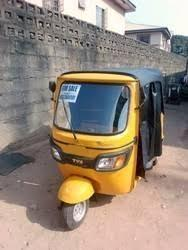keke: (48, 63, 166, 232)
